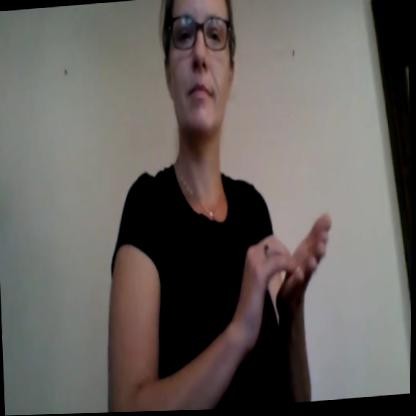ExcuseMe: (223, 197, 344, 356)
